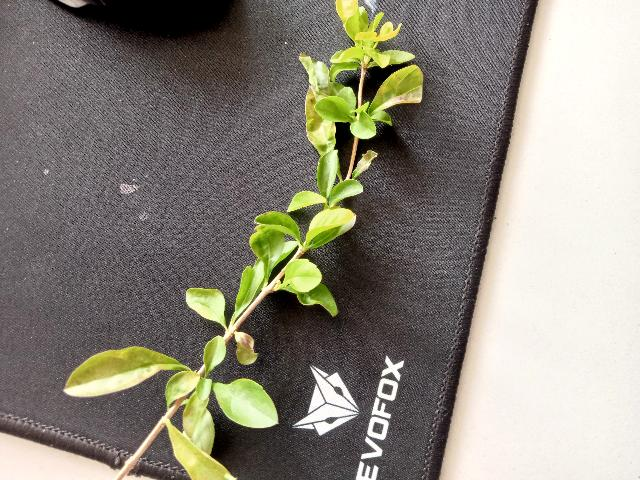pylokantus: (62, 0, 424, 478)
